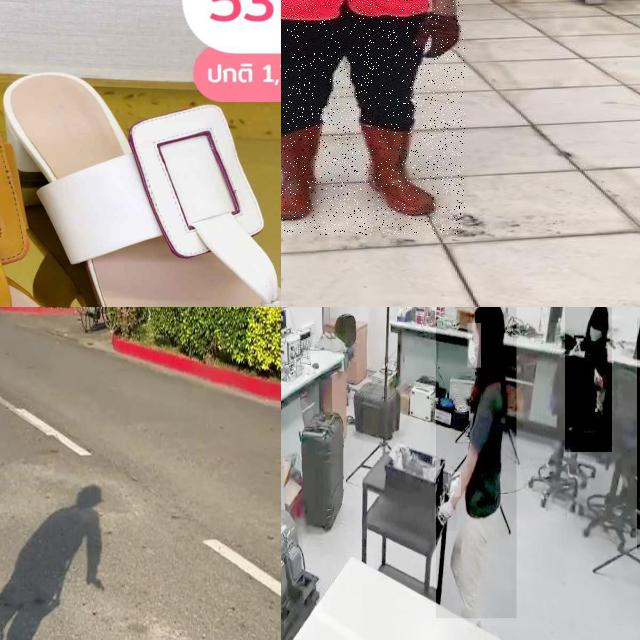Sandals: (0, 34, 281, 307), (0, 64, 117, 307)
boots: (350, 123, 438, 215), (281, 126, 322, 217)
face_mask: (467, 323, 481, 368), (588, 318, 605, 349)
hand_glove: (438, 496, 457, 532), (448, 472, 462, 498)
head_nohelmet: (472, 307, 503, 322), (589, 307, 608, 318)
person: (281, 0, 465, 235), (436, 307, 517, 619), (565, 307, 612, 453)
